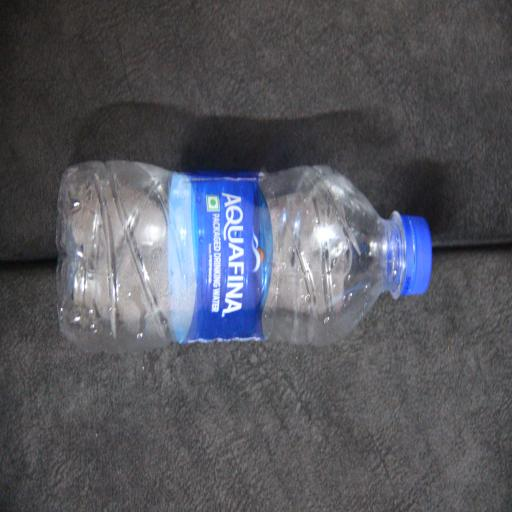Aquafina: (110, 120, 231, 512)
